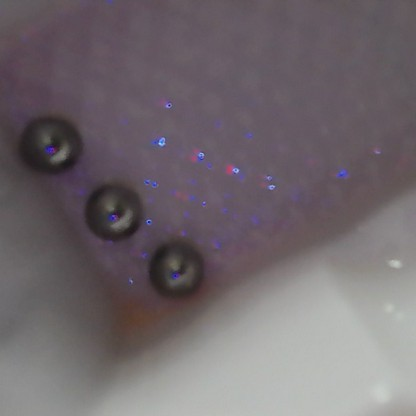ironball: (15, 115, 82, 175), (83, 183, 143, 241), (150, 239, 204, 298)
